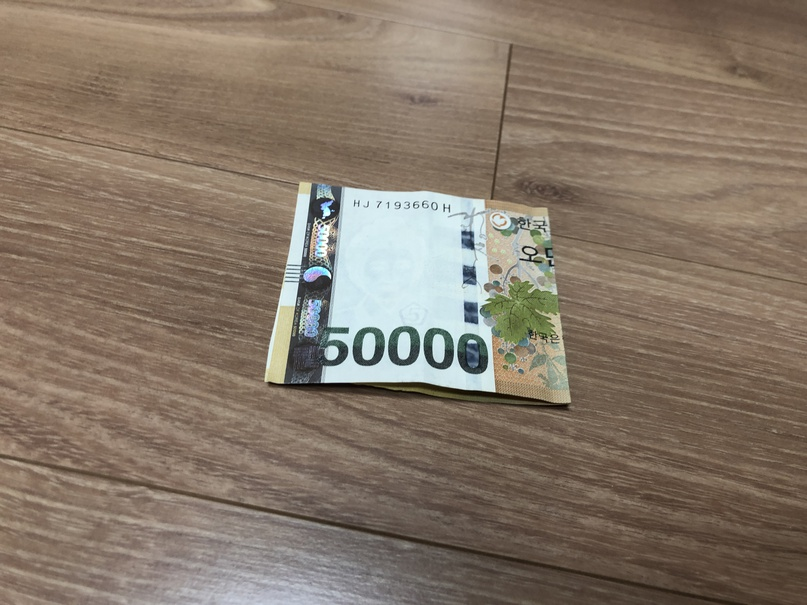50000won: (264, 181, 571, 407)
